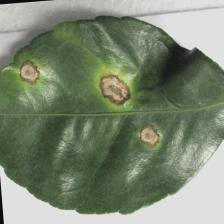canker: (15, 52, 169, 156)
